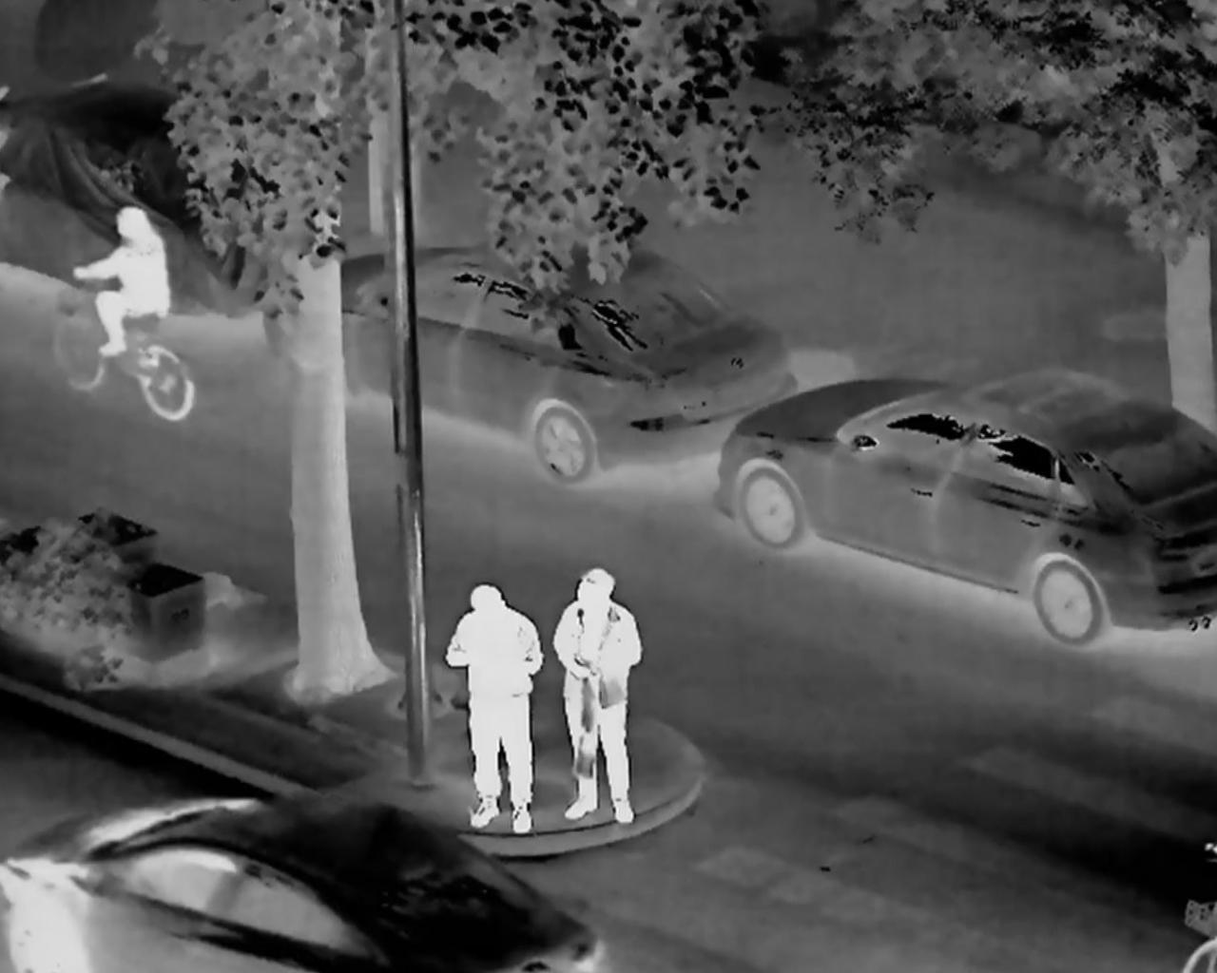person: (541, 558, 652, 833), (442, 583, 554, 839), (75, 204, 176, 382)
